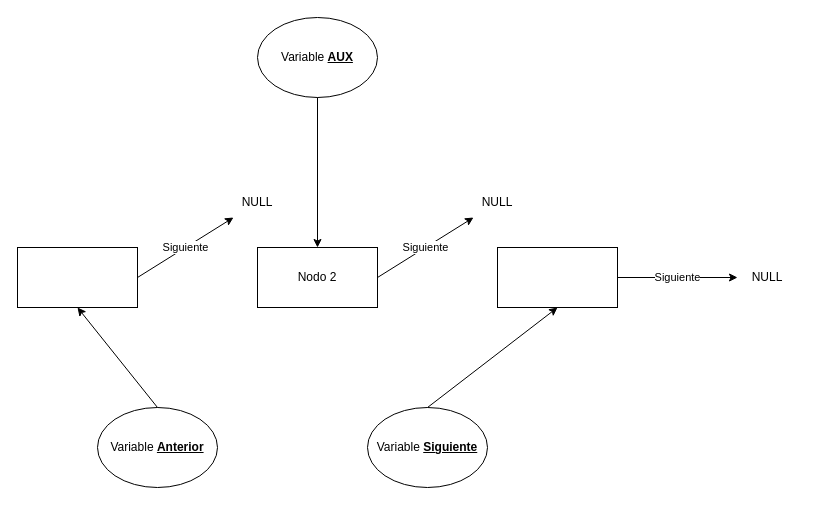
This 815x505 diagram has some shape labels left out. The shapes that lost their labels are listed below. From the top down, each one's centre as x and y in pixels, then its label:
[77,277]: Nodo 1
[557,277]: Nodo 3
